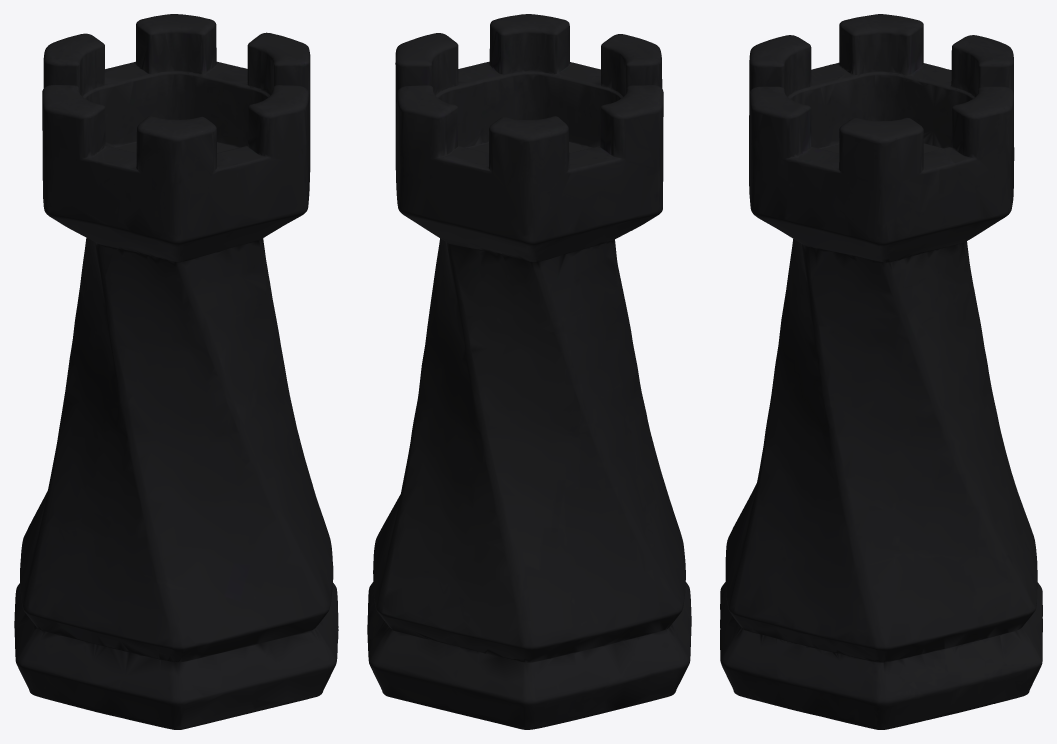
The model's file is rook-black-hd.glb.
3 renders of one model, left to right at view 1: azimuth 30°, elevation 25°; view 2: azimuth 150°, elevation 25°; view 3: azimuth 270°, elevation 25°, orthographic.
Size of the model in its own units: 0.6207 by 1.1 by 0.549.
Materials: 1 (1 with a texture image).
